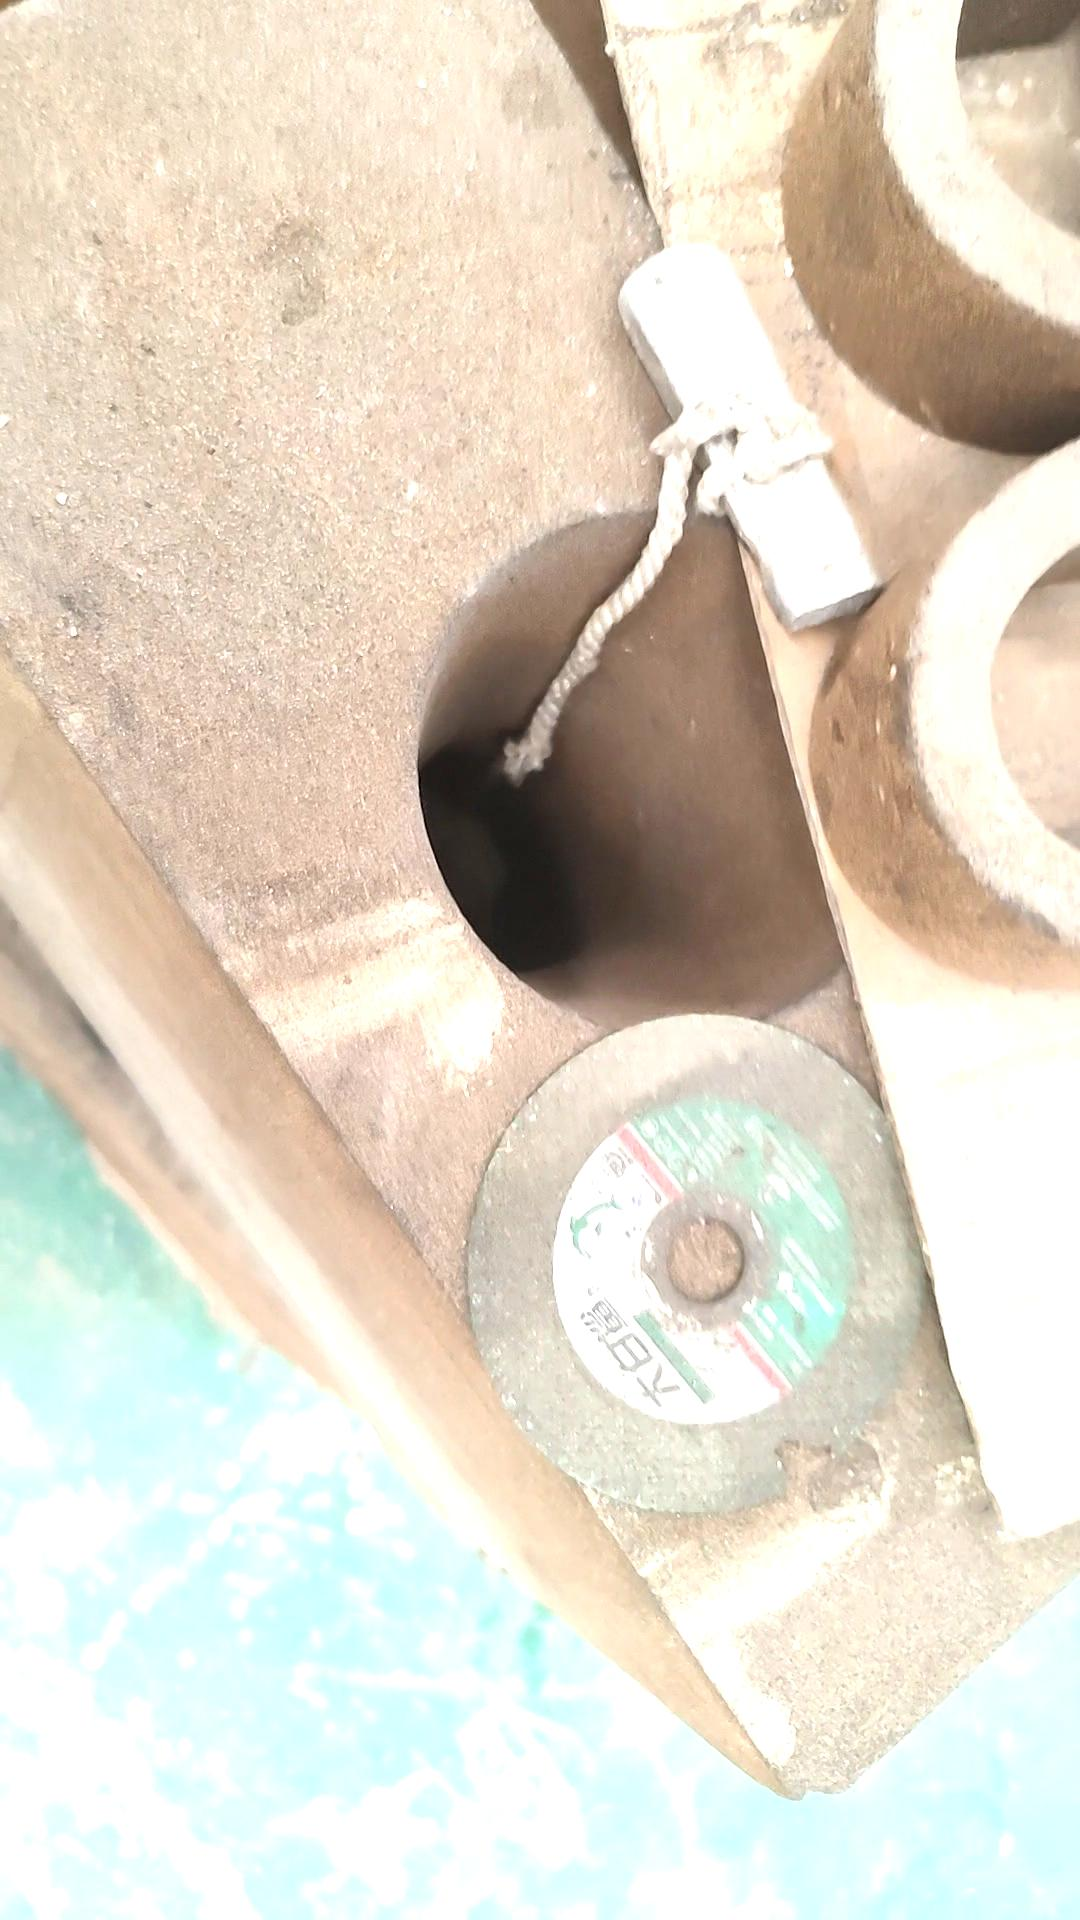pouring hole: (417, 508, 874, 1034)
